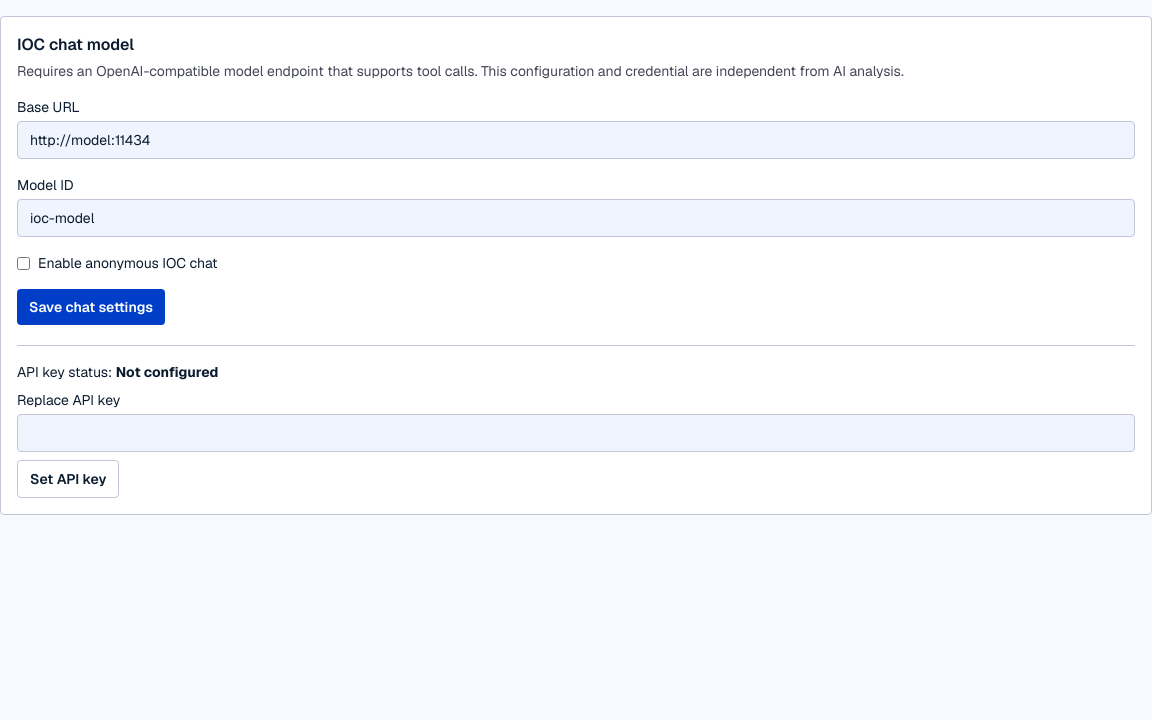
Test case: AdminIocChatSettings › validates enabled settings accessibly without sending invalid data
Click the checkbox labelled "Enable anonymous IOC chat" at (24, 263), box [17,256,30,270]
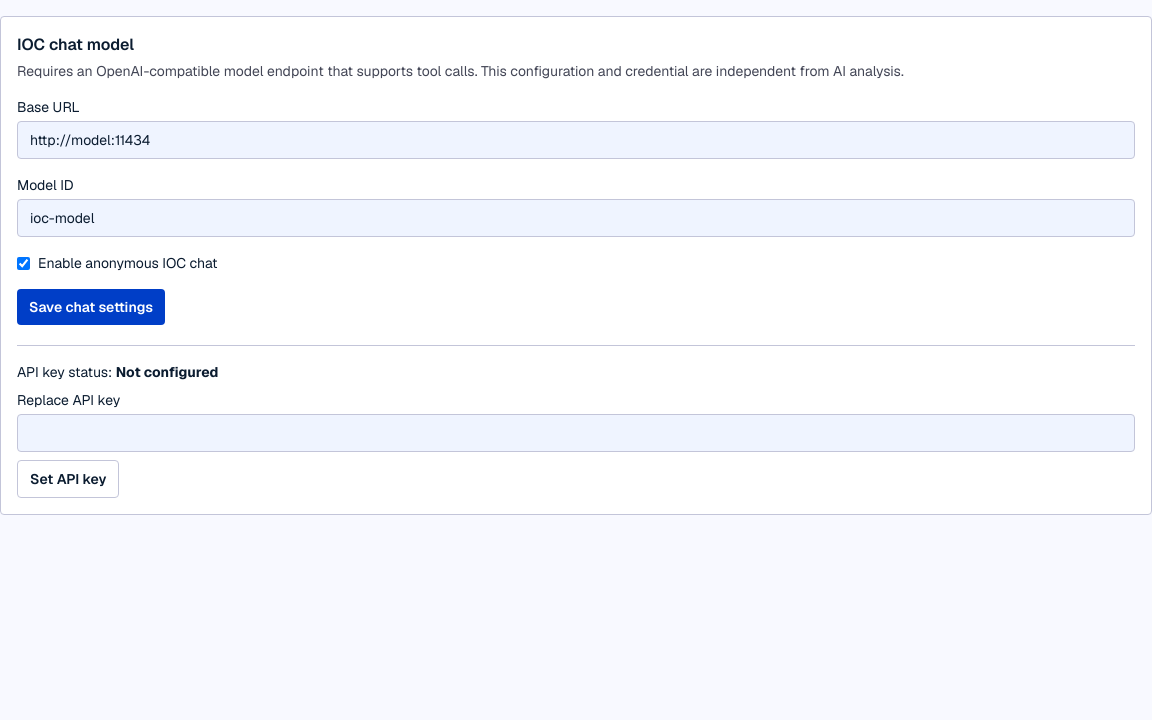
Replace the text in the field labelled "Base URL" with "not-a-url" at (576, 140), box [17,121,1135,159]
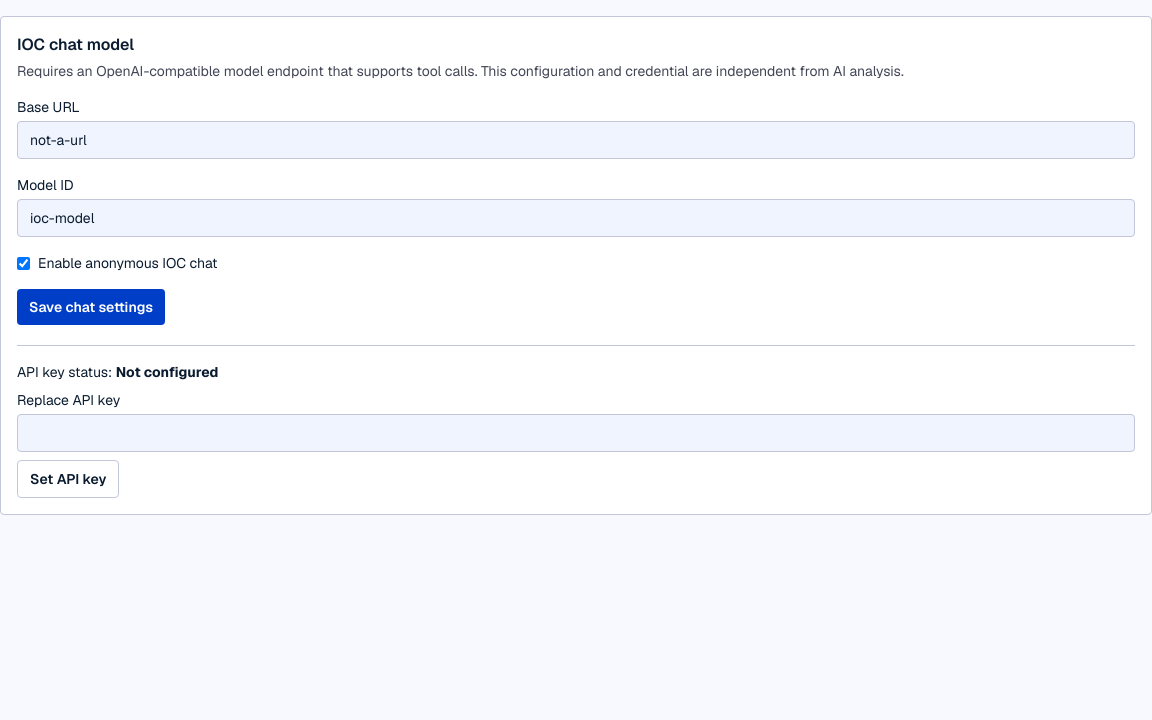
Click the button "Save chat settings" at (91, 307), box [17,289,165,325]
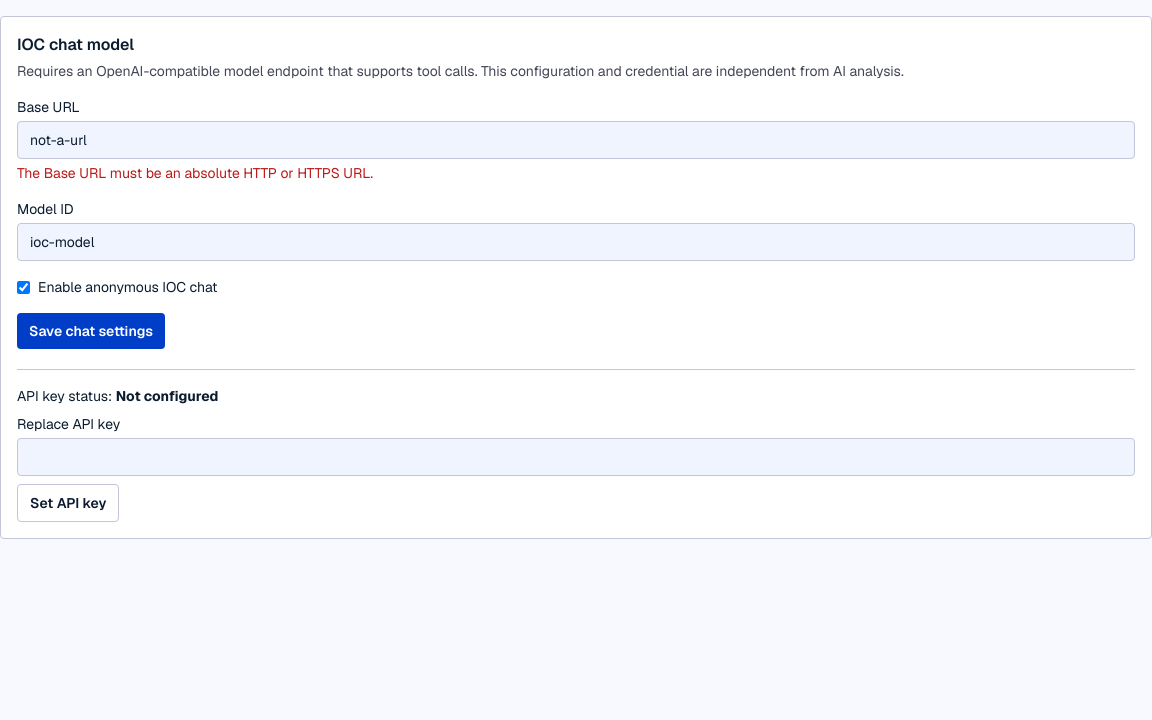
Expected: the message "The Base URL must be an absolute HTTP or HTTPS URL." is shown, [17,164,373,182]
